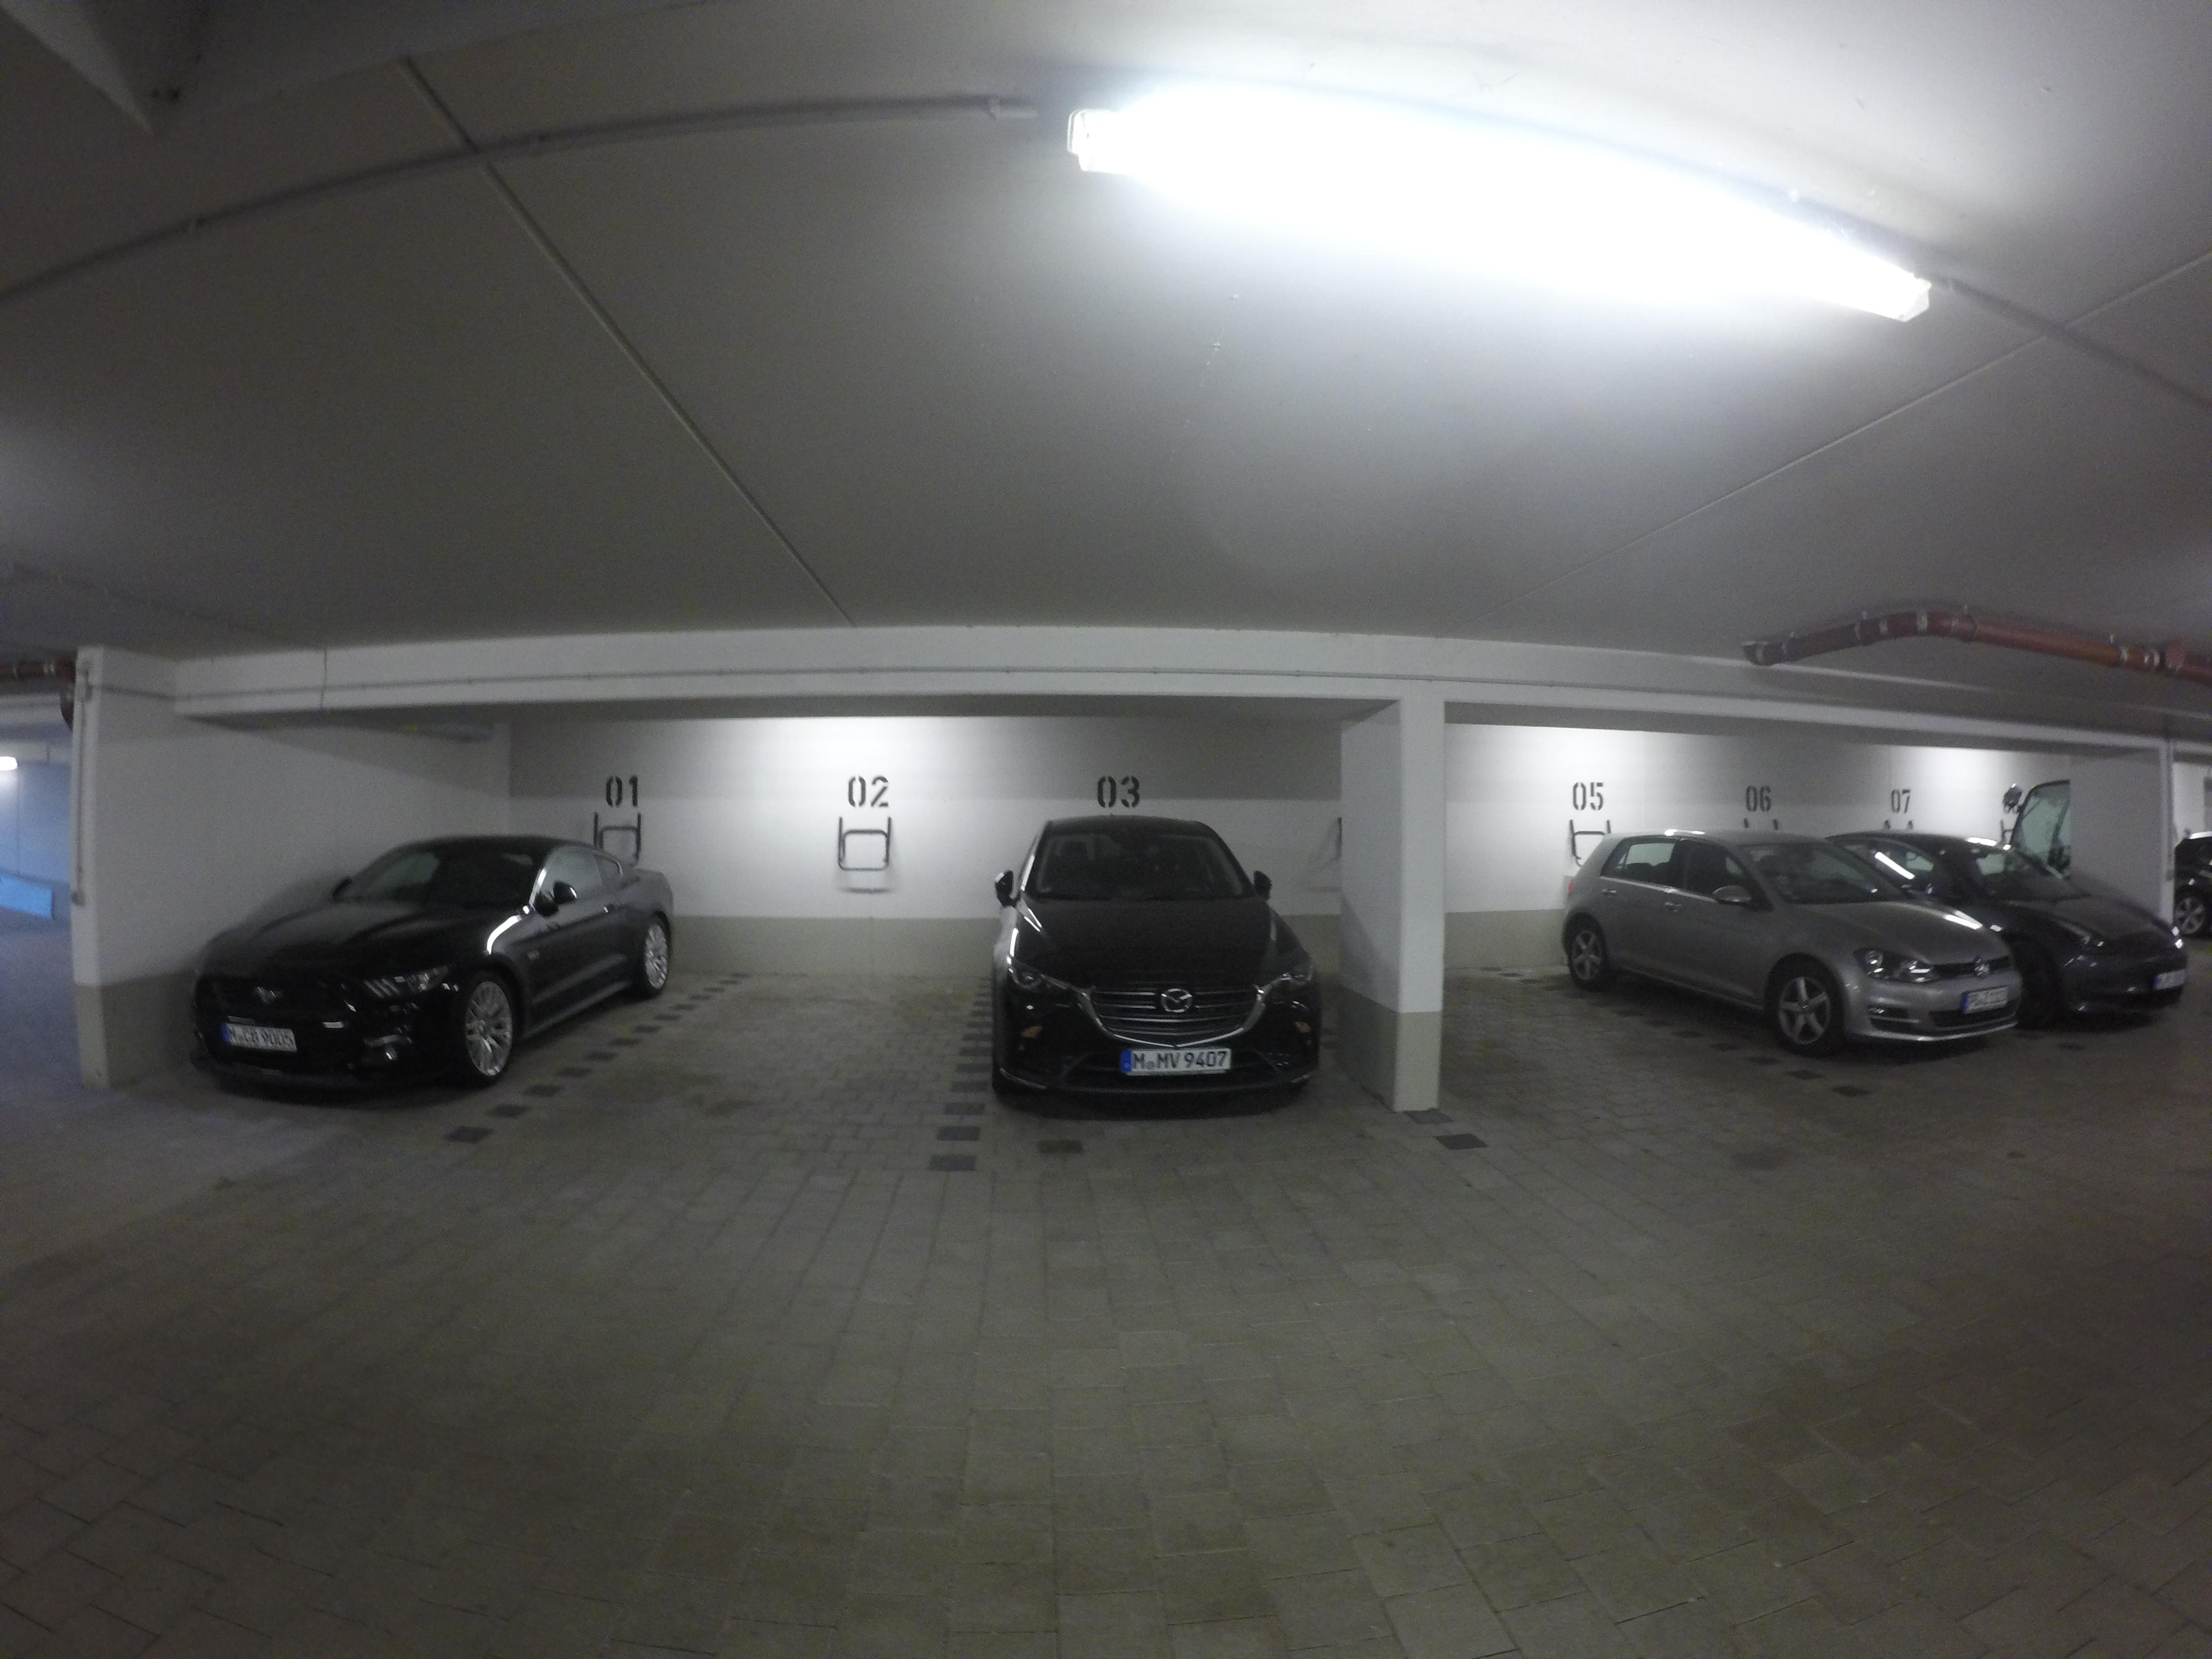0: (1206, 1051, 1217, 1067)
4: (1195, 1051, 1206, 1068)
7: (1217, 1050, 1227, 1067)
9: (1183, 1051, 1194, 1068)
M: (1156, 1051, 1169, 1069), (1133, 1052, 1145, 1070)
V: (1169, 1052, 1180, 1068)
